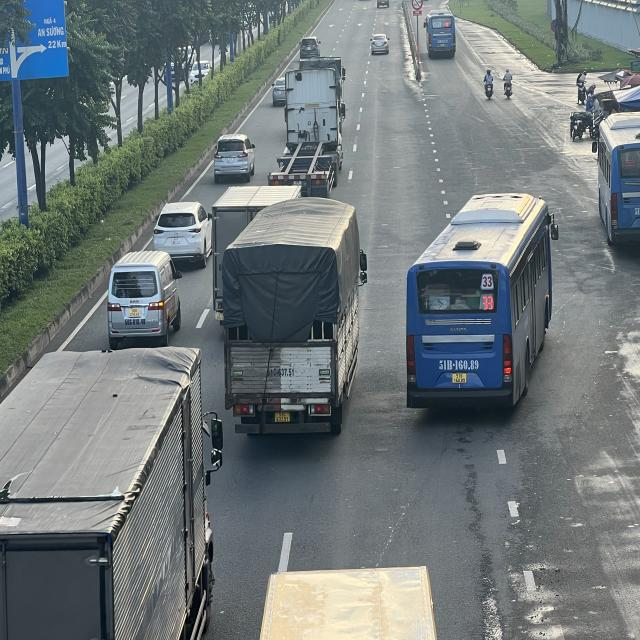car: (151, 199, 209, 264), (212, 133, 254, 182)
coach: (404, 192, 554, 410), (595, 110, 640, 247), (427, 9, 458, 59)
container: (271, 58, 349, 196)
truck: (0, 344, 223, 638), (222, 198, 367, 439)
van: (108, 250, 184, 348)
